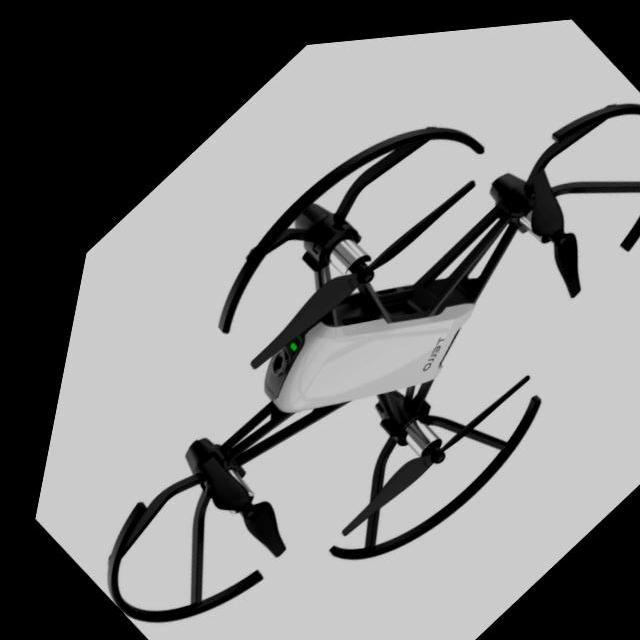drone: (104, 101, 640, 612)
